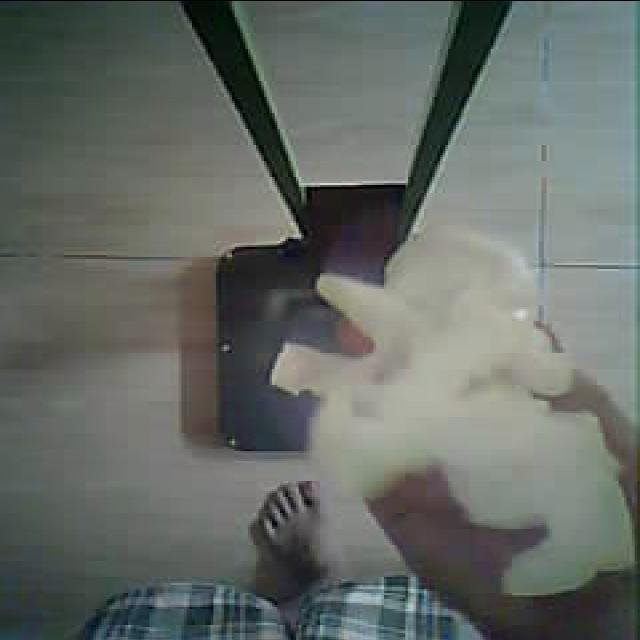Paper: (322, 216, 636, 637)
